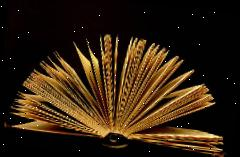paper: (3, 21, 237, 157)
